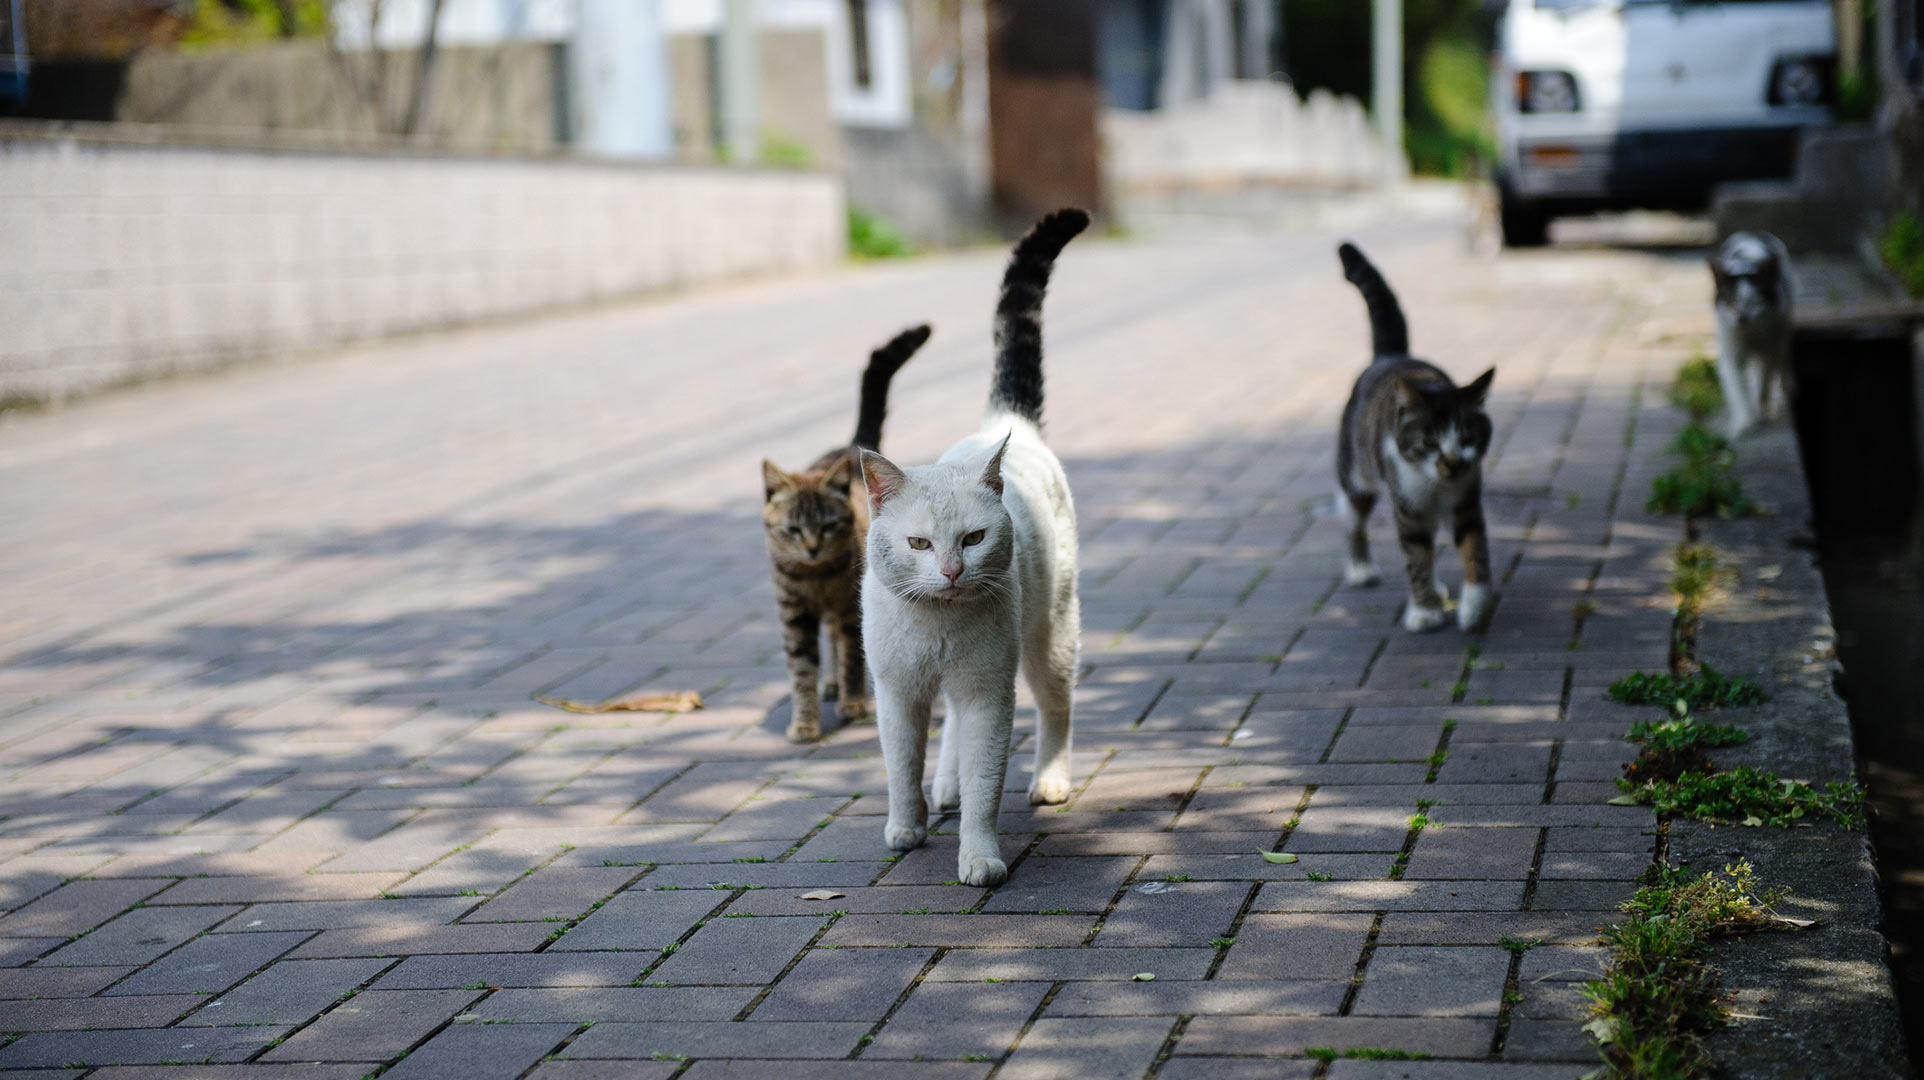cat: (836, 250, 1196, 891), (686, 330, 940, 777), (1259, 252, 1567, 611)
